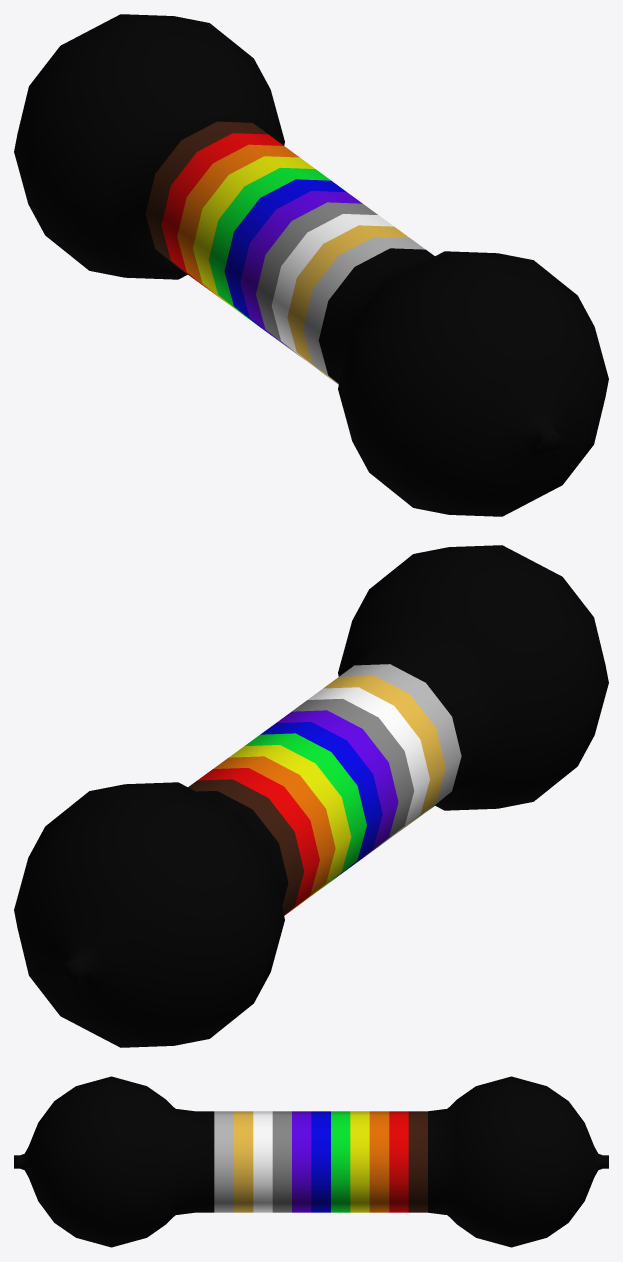
Rendered from rezystor_paski_widok.fbx.
3 renders of one model, top to bottom at view 1: azimuth 30°, elevation 25°; view 2: azimuth 150°, elevation 25°; view 3: azimuth 270°, elevation 25°, orthographic. The views are drawn at different scales.
Visible parts, largest first — view 1: rezystor_paski_widok; view 2: rezystor_paski_widok; view 3: rezystor_paski_widok.
Boxes of the visible parts, left/top/right/bottom form: rezystor_paski_widok: left=14, top=14, right=608, bottom=516; rezystor_paski_widok: left=14, top=545, right=608, bottom=1047; rezystor_paski_widok: left=14, top=1076, right=608, bottom=1247.
Bounding box in the file's own units: 338 × 338 × 1171.
